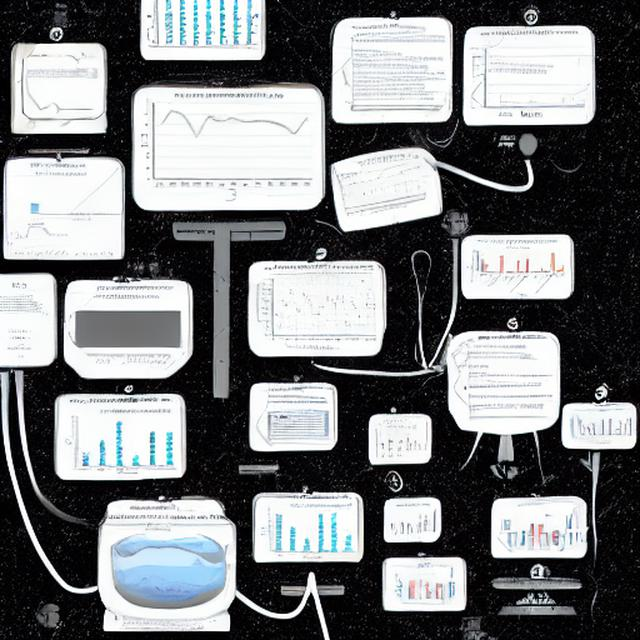Graph: (136, 90, 317, 197), (253, 270, 379, 352), (63, 409, 177, 476), (468, 238, 568, 297), (261, 504, 355, 559), (5, 220, 69, 258), (570, 408, 634, 445)
